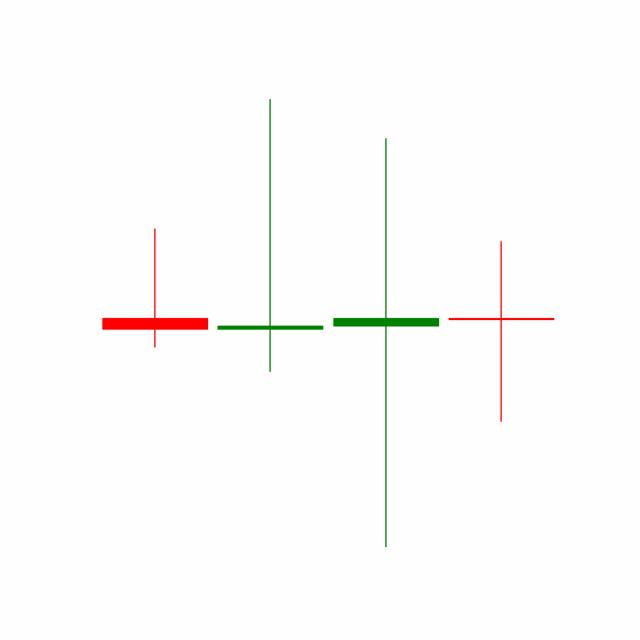Spinning Top: (328, 133, 444, 552)
